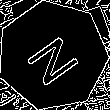N_NE: (20, 24, 85, 87)
